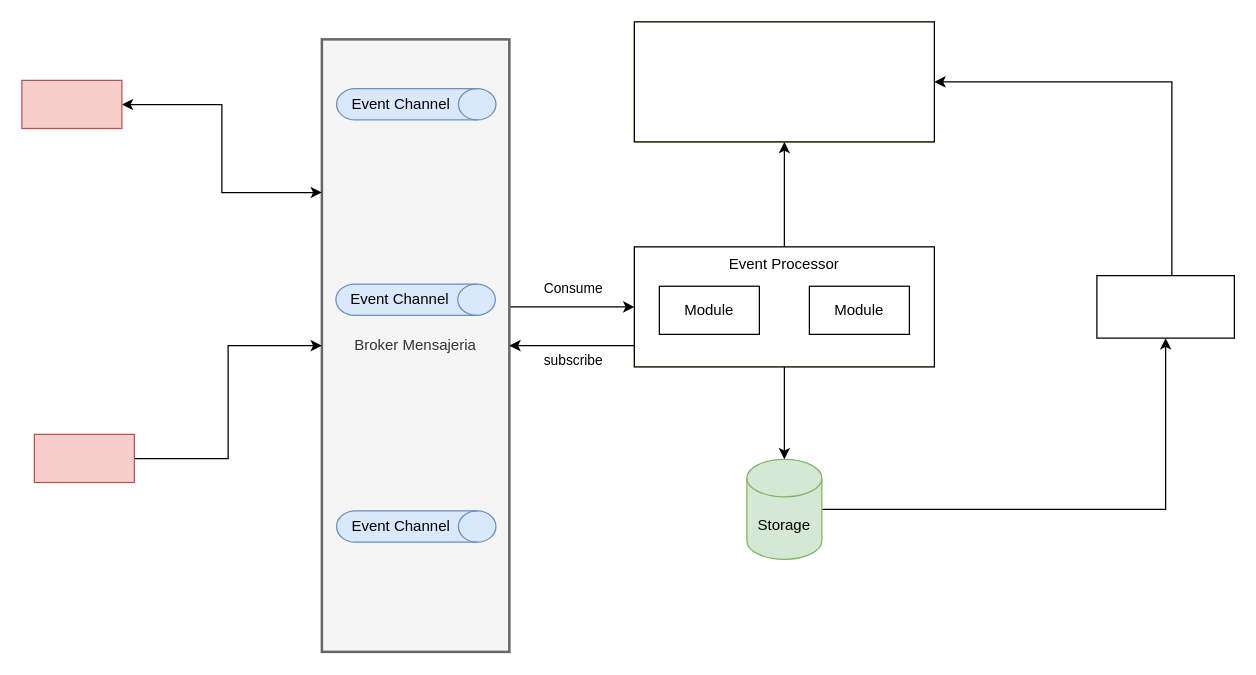
Some shapes in this 1256 by 675 pixel diagram are drawn without their labels. The centre of each missing label's shape, as x and y in pixels:
"Business Integration" belongs at pixel 1165 306.
"Sensores A" belongs at pixel 71 103.
"Sensores B" belongs at pixel 83 457.
"UI & Reporting Tools" belongs at pixel 783 81.
